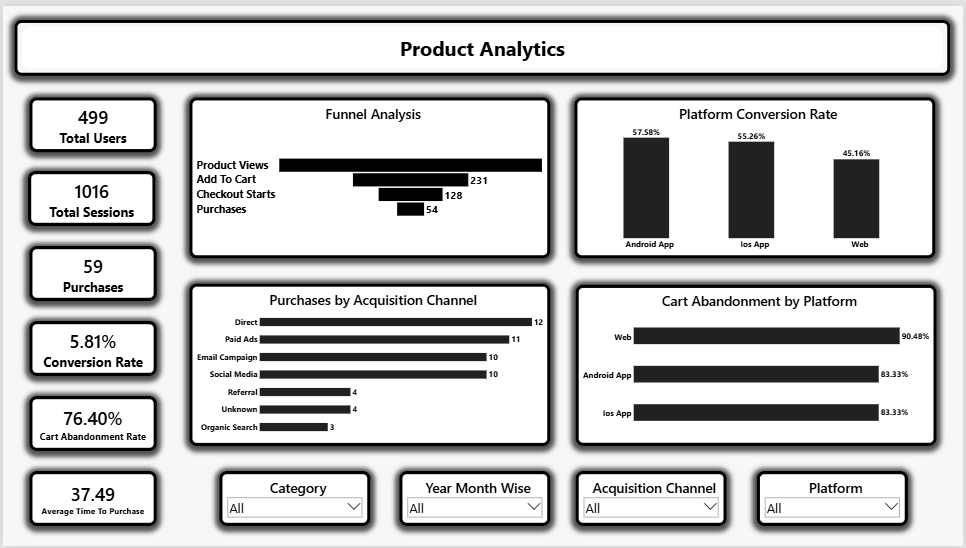

Layout of this report page (visuals, bound fields, positions):
{"tool":"powerbi","page":{"name":"Product Analytics","canvas":[3840,2160],"ordinal":1},"visuals":[{"type":"textbox","box":[10,0,280,280],"z":0},{"type":"textbox","box":[105,622.5,510,225],"z":1000},{"type":"shape","box":[45,55,3745,225],"z":2000},{"type":"card","fields":{"Values":["Measures 2.Total Sessions"]},"box":[100,660,510,220],"z":3000},{"type":"card","fields":{"Values":["Measures 2.Purchases Sessions"]},"box":[105,960,510,220],"z":4000},{"type":"card","fields":{"Values":["Measures 2.Conversion Rate"]},"box":[105,1260,510,220],"z":5000},{"type":"card","fields":{"Values":["Measures 2.Cart Abandonment Rate"]},"box":[105,1560,510,220],"z":6000},{"type":"card","fields":{"Values":["Measures 2.Average Time To Purchase"]},"box":[105,1860,510,220],"z":7000},{"type":"funnel","title":"Funnel Analysis","fields":{"Y":["Measures 2.Product Views","Measures 2.Add To Cart","Measures 2.Checkout Starts","Measures 2.Purchases"]},"box":[745,365,1445,645],"z":8000},{"type":"clusteredBarChart","title":"Cart Abandonment by Platform","fields":{"Category":["events.platform"],"Y":["Measures 2.Cart Abandonment Rate"]},"box":[2290,1115,1445,645],"z":9000},{"type":"barChart","title":"Purchases by Acquisition Channel","fields":{"Category":["users.acquisition_channel"],"Y":["Measures 2.Purchases"]},"box":[745,1110,1445,650],"z":10000},{"type":"clusteredColumnChart","title":"Platform Conversion Rate","fields":{"Category":["events.platform"],"Y":["Measures 2.Conversion Rate"]},"box":[2285,365,1445,645],"z":11000},{"type":"card","fields":{"Values":["Measures 2.Total Users"]},"box":[105,365,510,220],"z":12000},{"type":"slicer","title":"Year Month Wise","fields":{"Values":["Calendar.Year Month"]},"box":[1585,1860,605,220],"z":13000},{"type":"slicer","title":"Platform","fields":{"Values":["events.platform"]},"box":[3015,1860,605,220],"z":14000},{"type":"slicer","title":"Category","fields":{"Values":["products.category"]},"box":[865,1860,605,220],"z":15000},{"type":"slicer","title":"Acquisition Channel","fields":{"Values":["users.acquisition_channel"]},"box":[2290,1860,605,220],"z":16000}]}

Visuals, with their boxes in screenshot pixels (x1, y1, x2, y2), scaled from the page's 3840x2160 canvas onto the 966x548 screenshot:
textbox: 3/0/73/71
textbox: 26/158/155/215
shape: 11/14/953/71
card - Measures 2.Total Sessions: 25/167/153/223
card - Measures 2.Purchases Sessions: 26/244/155/299
card - Measures 2.Conversion Rate: 26/320/155/375
card - Measures 2.Cart Abandonment Rate: 26/396/155/452
card - Measures 2.Average Time To Purchase: 26/472/155/528
"Funnel Analysis" funnel: 187/93/551/256
"Cart Abandonment by Platform" clusteredBarChart: 576/283/940/447
"Purchases by Acquisition Channel" barChart: 187/282/551/447
"Platform Conversion Rate" clusteredColumnChart: 575/93/938/256
card - Measures 2.Total Users: 26/93/155/148
"Year Month Wise" slicer: 399/472/551/528
"Platform" slicer: 758/472/911/528
"Category" slicer: 218/472/370/528
"Acquisition Channel" slicer: 576/472/728/528
